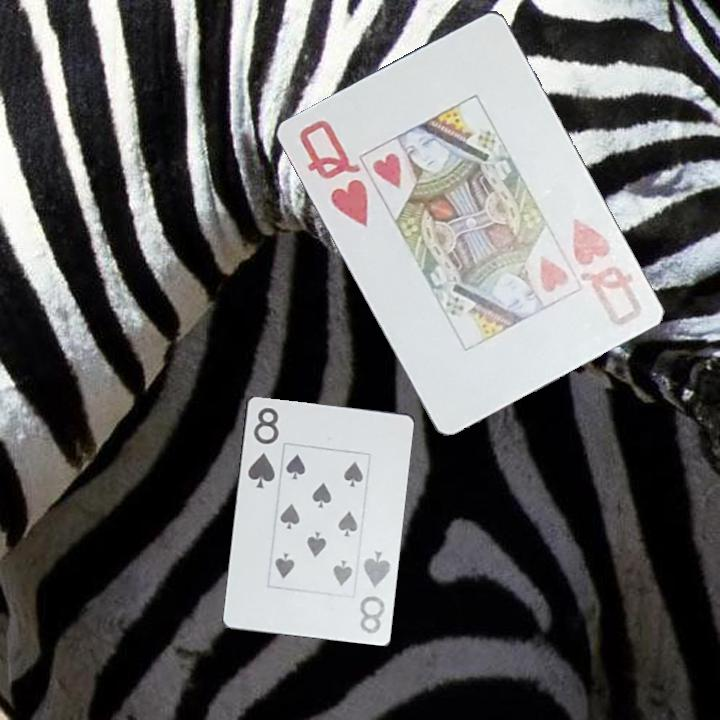8s: (244, 403, 282, 491), (356, 548, 393, 636)
Qh: (291, 113, 371, 229), (567, 214, 645, 329)
